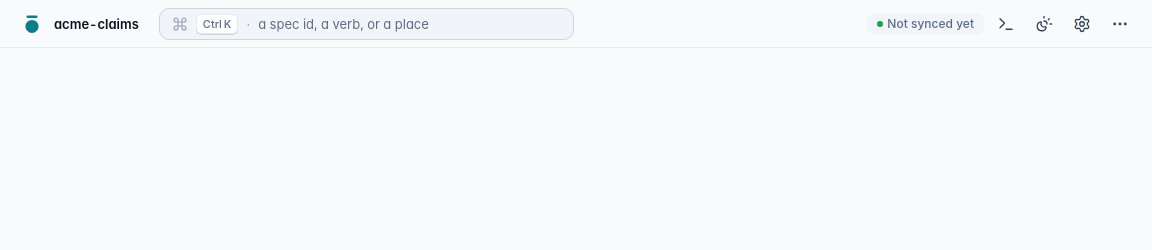
it: TopBand › Appearance is a disclosure over the three preference toggles — buttons with aria-pressed, no input
Click the 2nd button named "Appearance".
click(1044, 24)  # box [1028,8,1060,40]
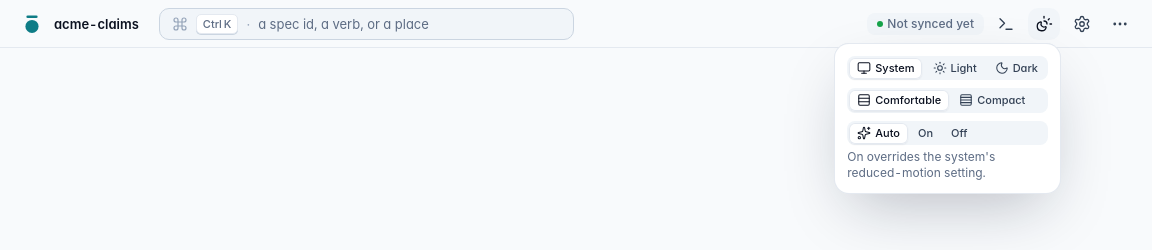
Result: the 2nd button named "Appearance" is expanded
Press Escape in the 2nd button named "Appearance", box [1028,8,1060,40]
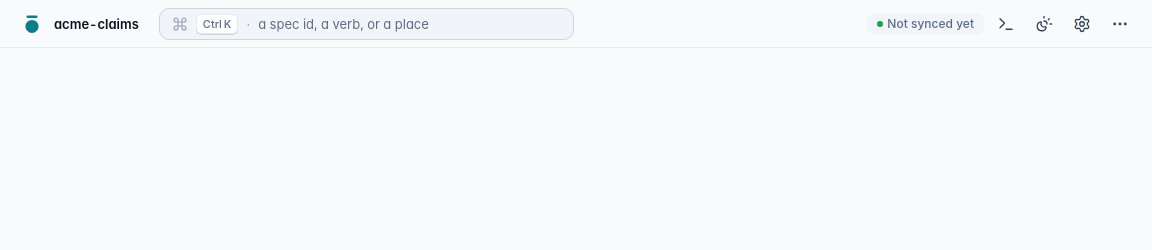
Result: the 2nd button named "Appearance" is collapsed at [1028,8,1060,40]
